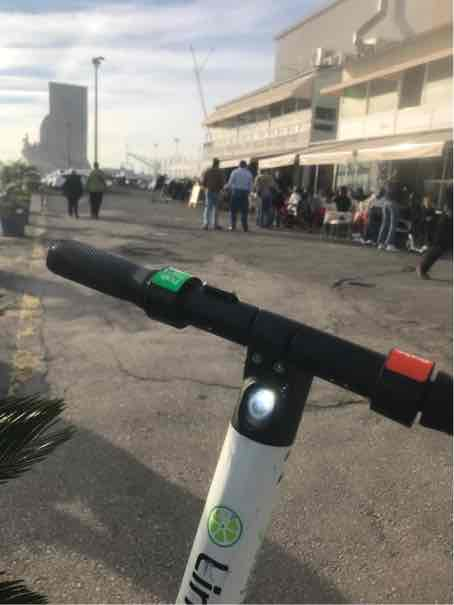scooter: (17, 246, 430, 605)
